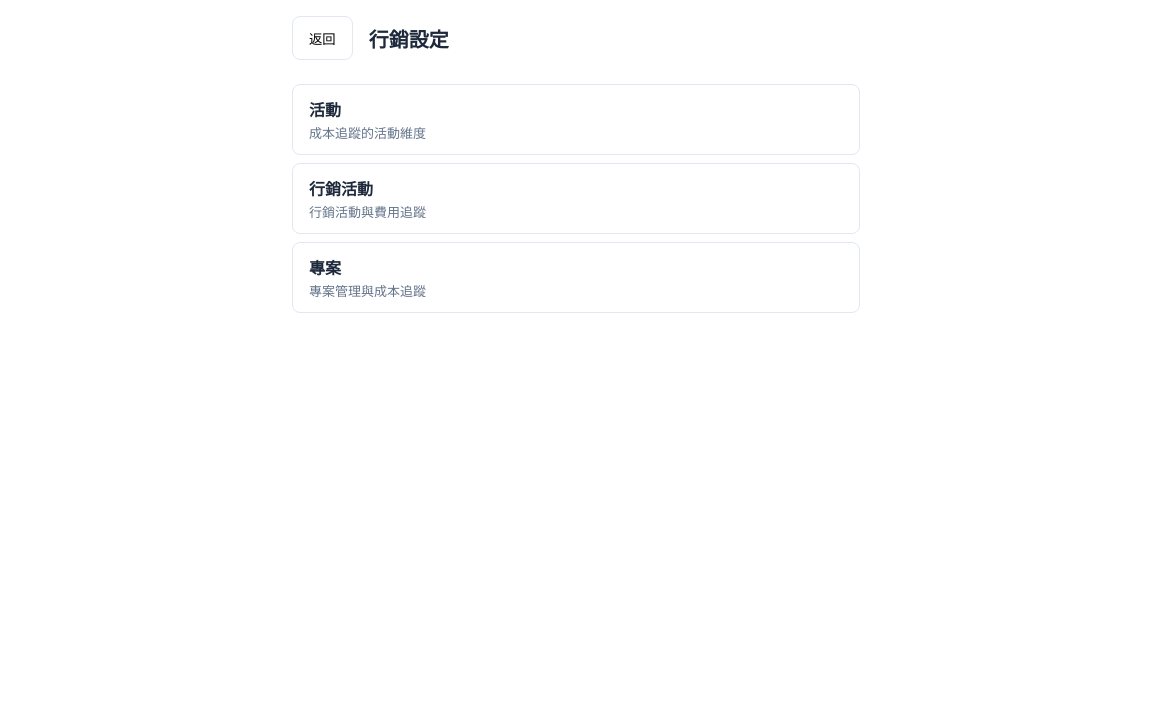
DimensionDataView › shows empty state when no records
Click the element with class "table-card" showing "活動 成本追蹤的活動維度": (576, 120) x1=292 y1=84 x2=860 y2=155
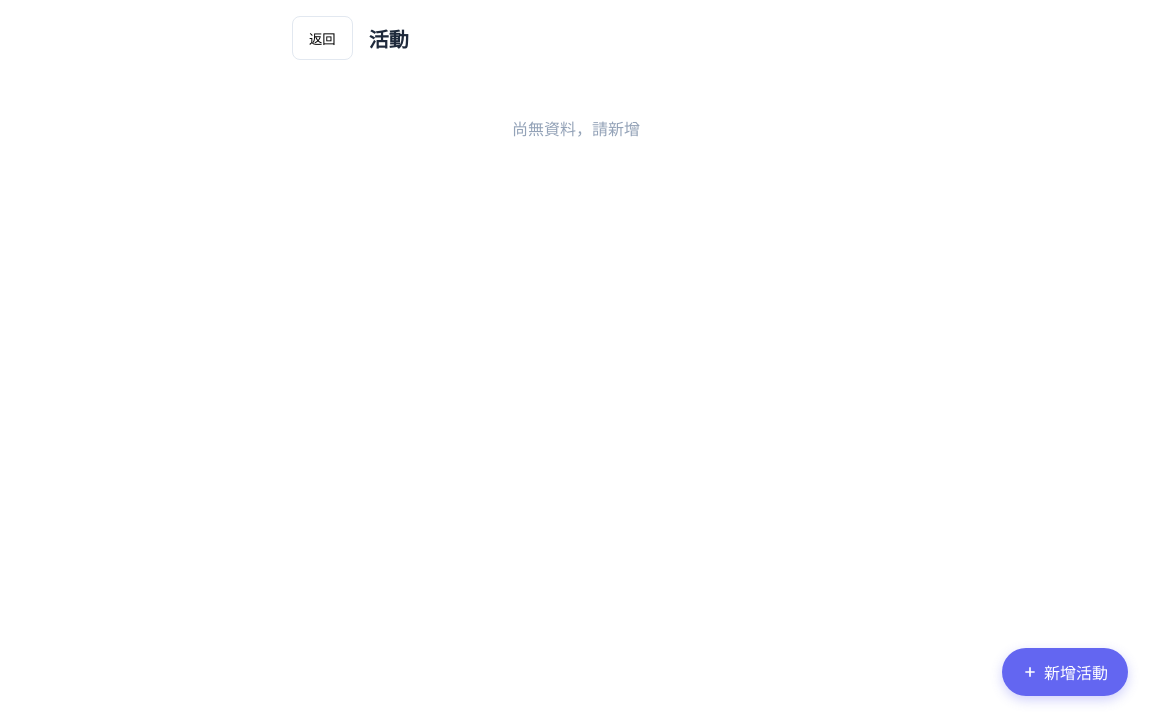
Expected: the text with class "empty-state" shows "尚無資料", x1=512 y1=119 x2=640 y2=139
